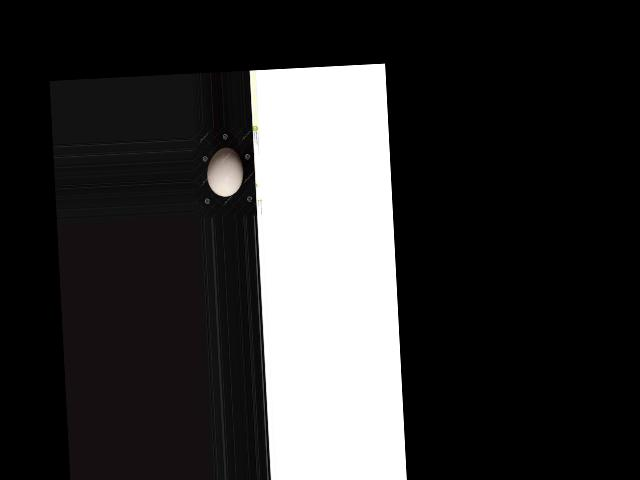egg: (206, 146, 244, 198)
